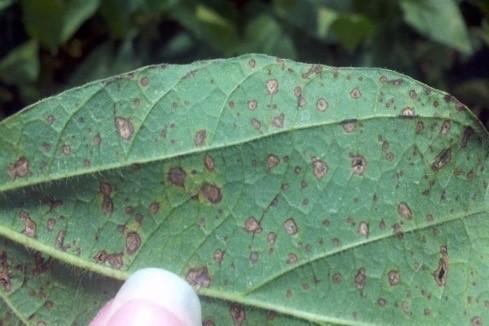black-spot: (171, 96, 384, 278)
